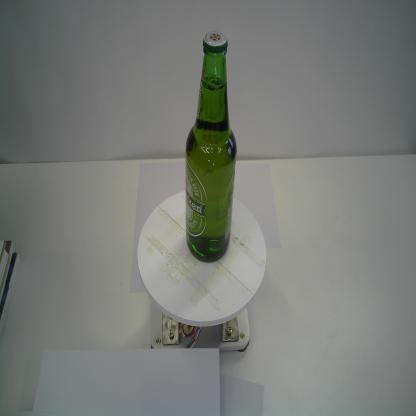Alcohol: (183, 28, 238, 267)
